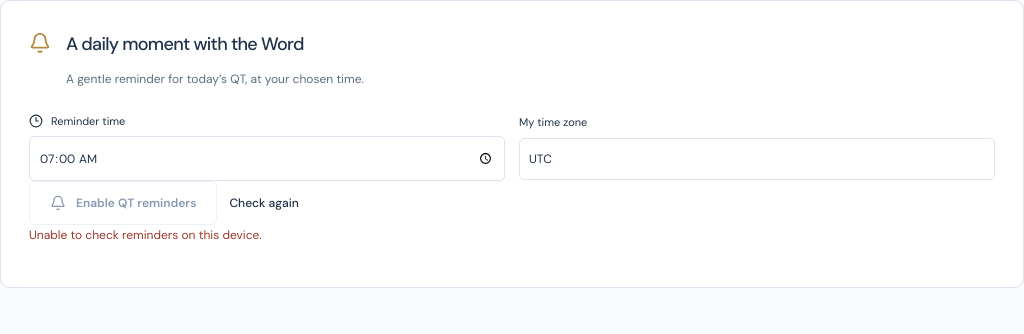
it: recovers a device-settings error without silently overwriting unknown preferences
The image size is (1024, 334).
Expected: the button "Enable QT reminders" is disabled, [29, 181, 217, 225]
Expected: the element that starts with "A daily moment with the Word" shows "Unable to check reminders", [29, 227, 262, 243]
Click the button "Check again": (264, 203) [229, 181, 299, 225]
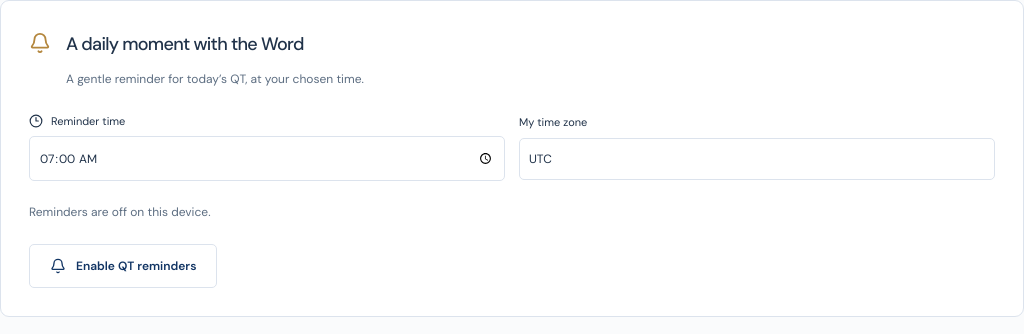
Result: the button "Enable QT reminders" is enabled at [29, 244, 217, 288]
Result: the message "Unable to check reminders on this device." is gone
